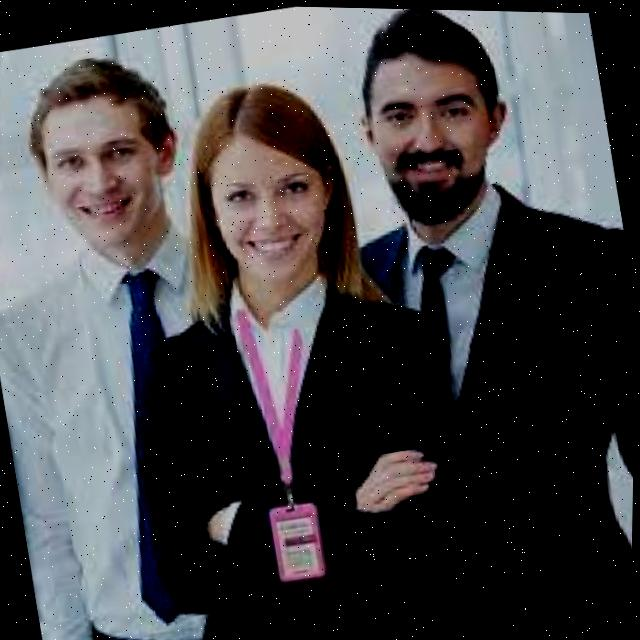id_card: (220, 268, 349, 595)
